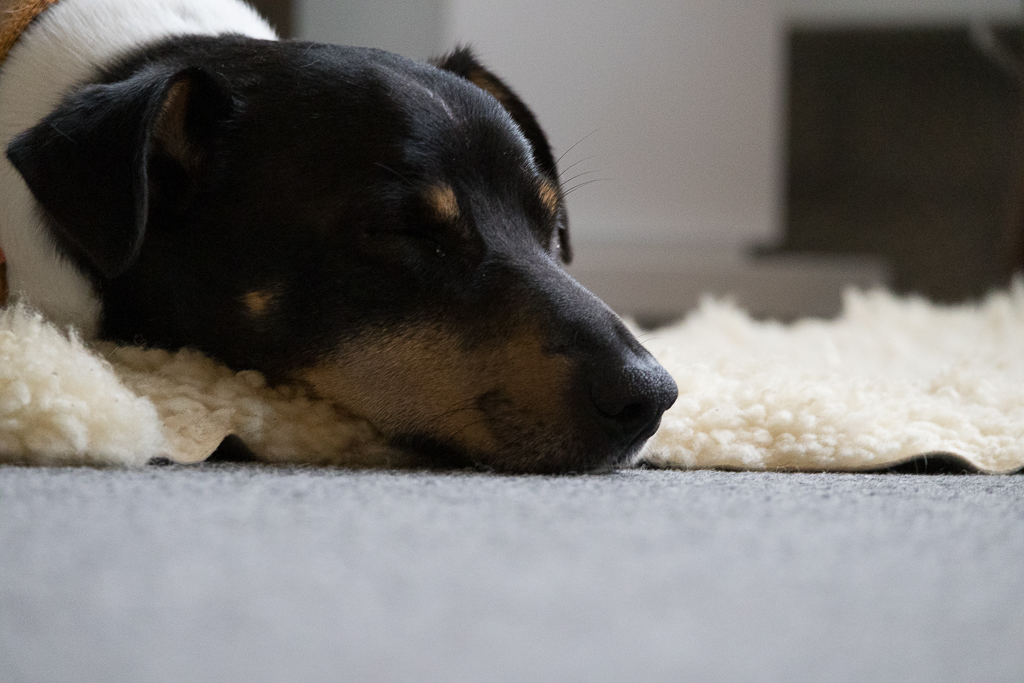Dog: (0, 0, 692, 489)
